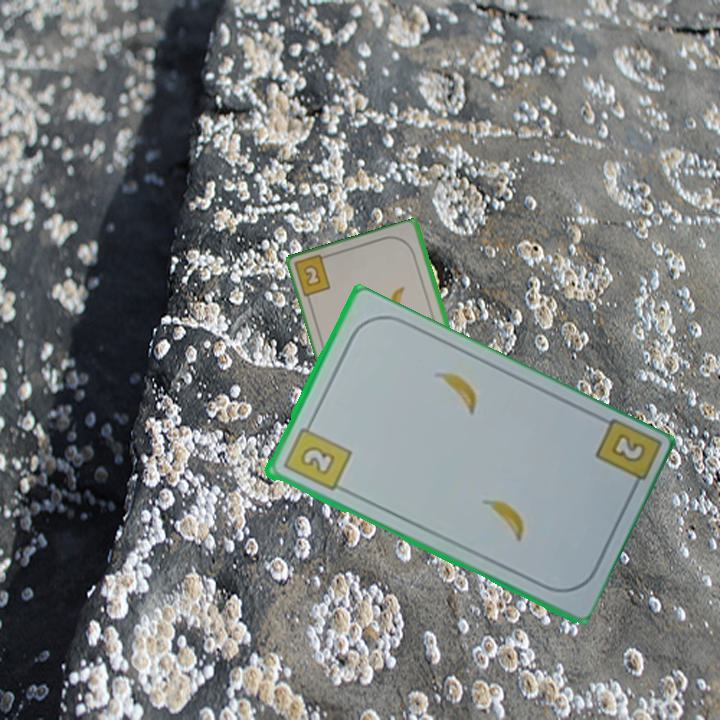2b: (279, 417, 354, 495), (293, 250, 336, 301), (606, 430, 648, 466)
